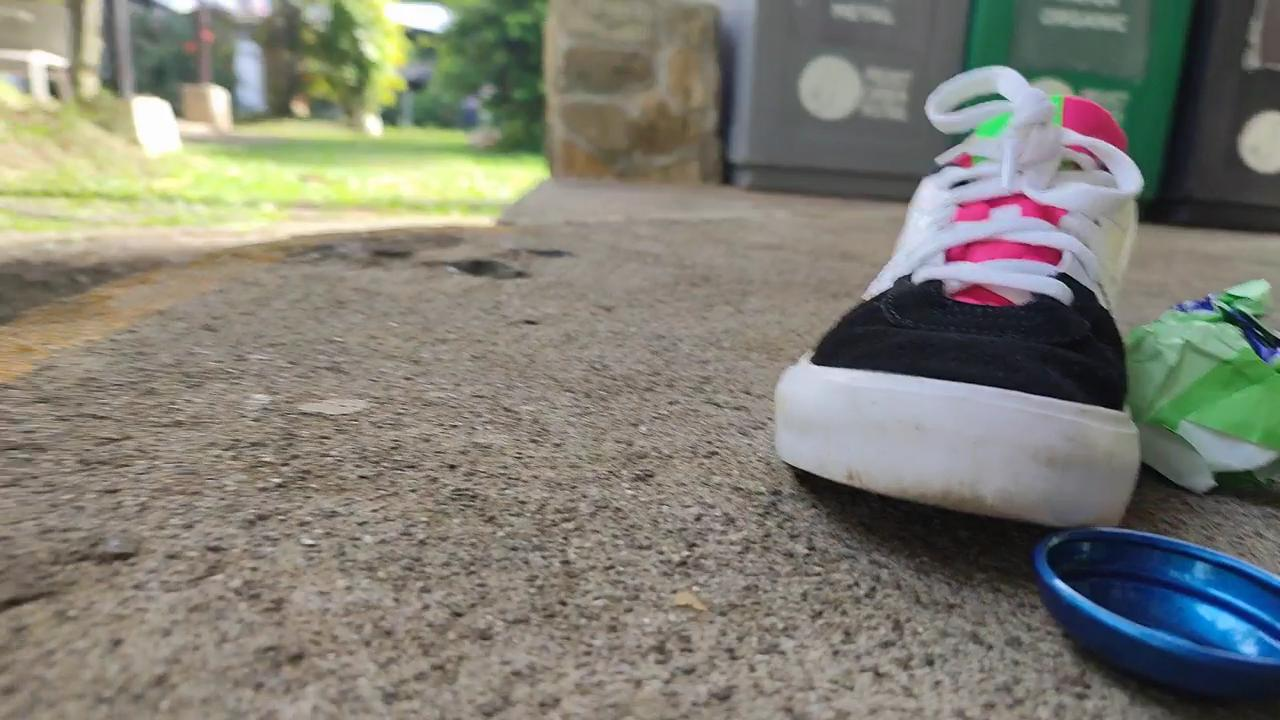Paper: (1125, 264, 1280, 505)
